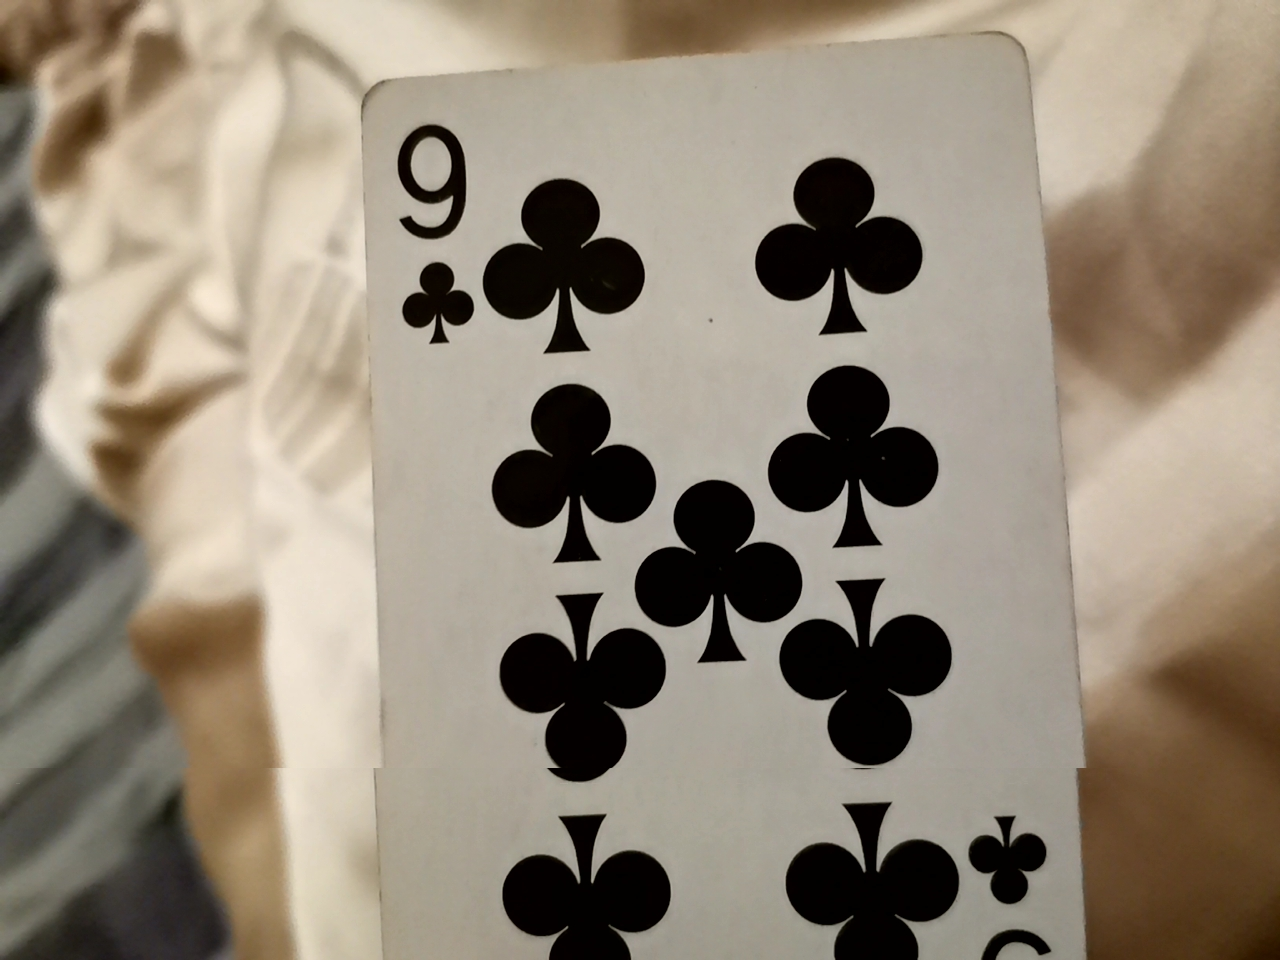mh 9: (319, 13, 1079, 960)
